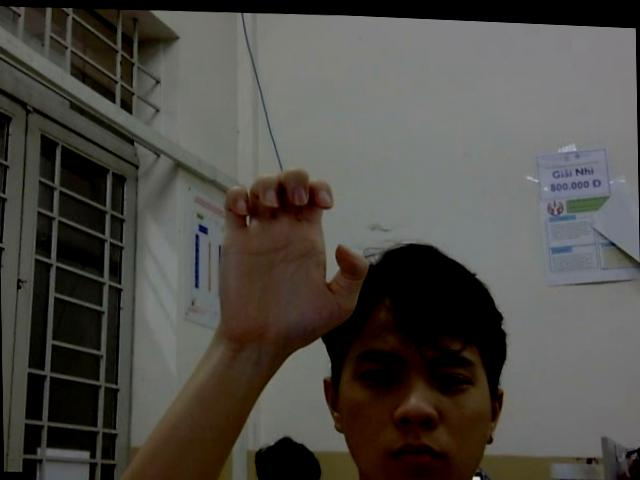E: (214, 159, 370, 349)
